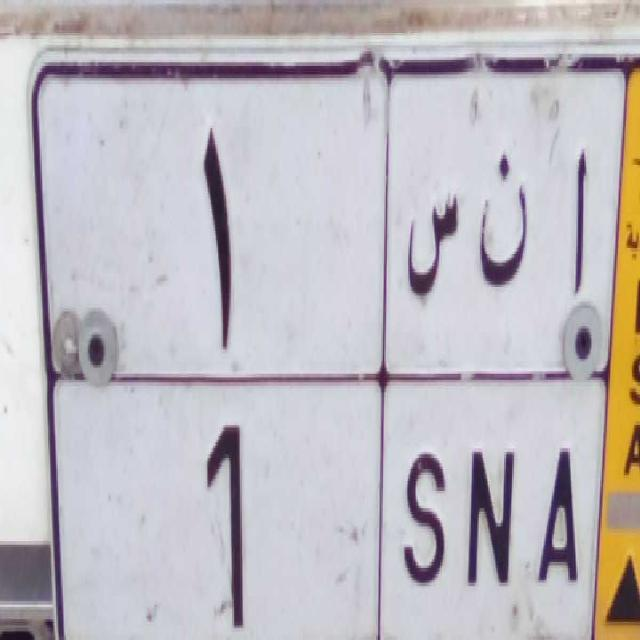license_plate: (90, 387, 590, 640)
